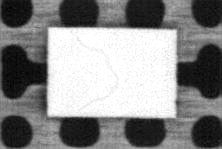DIE_CRACK: (67, 31, 119, 111)
